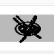not correct: (8, 15, 45, 44)
